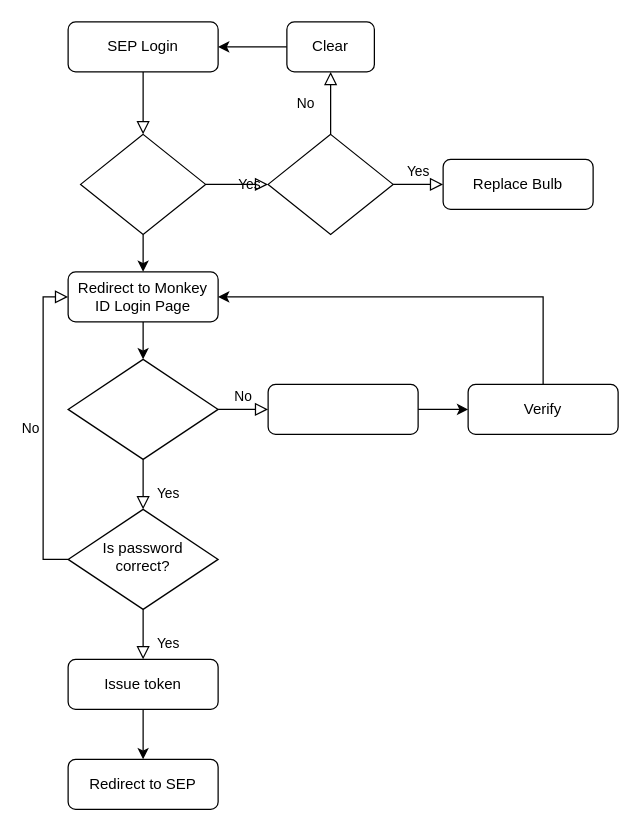
This 640x831 diagram has some shape labels left out. Each missing label, with the centre of its shape:
Has token?: the point at 142,183
Is account exist?: the point at 142,408
Is that valid?: the point at 330,183
Sign up: the point at 342,408
